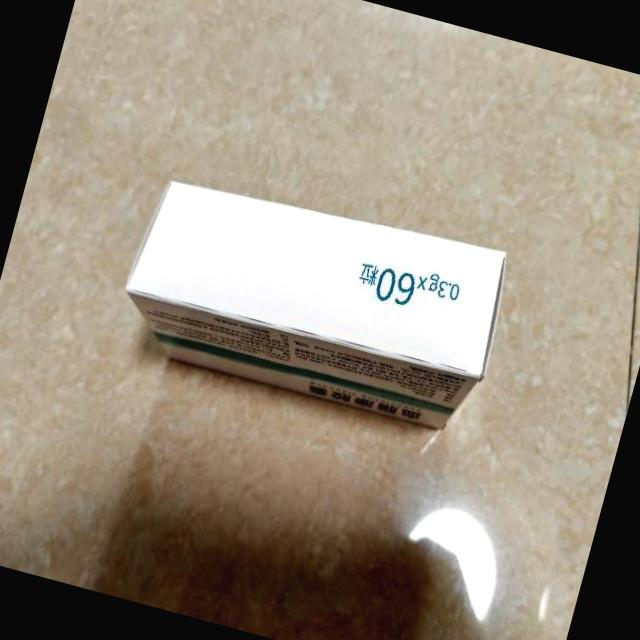box: (108, 158, 516, 440)
